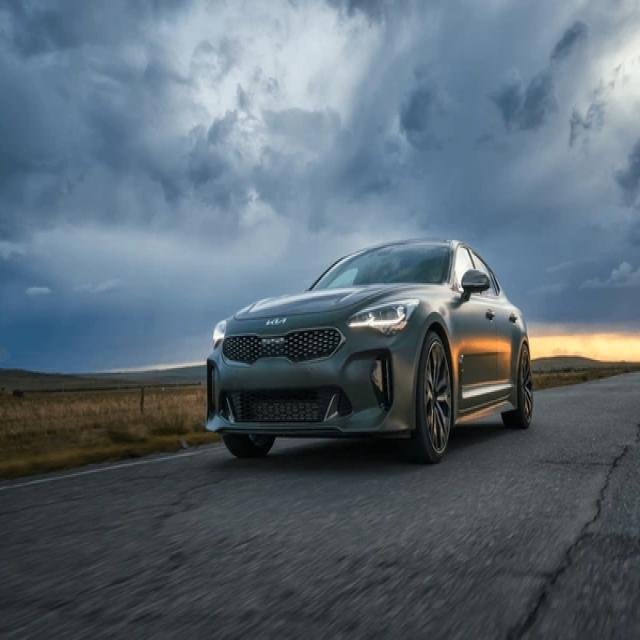kia: (259, 314, 296, 334)
